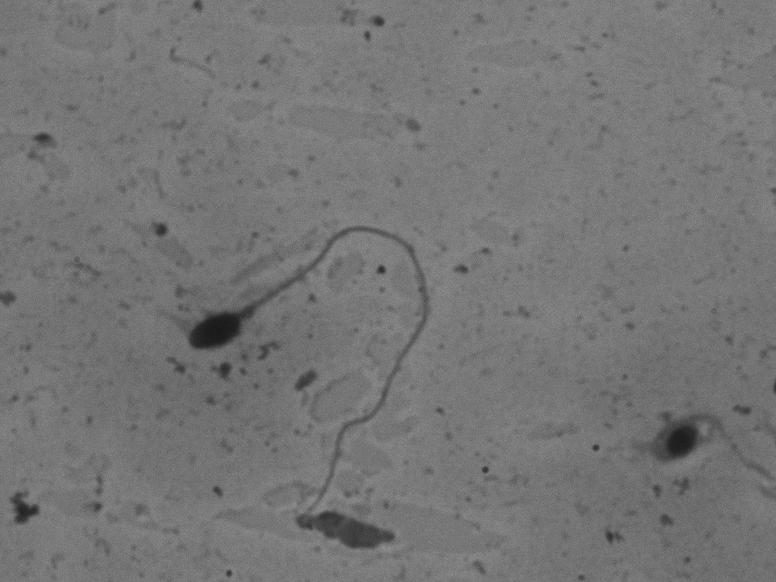Normal: (150, 215, 464, 522)
